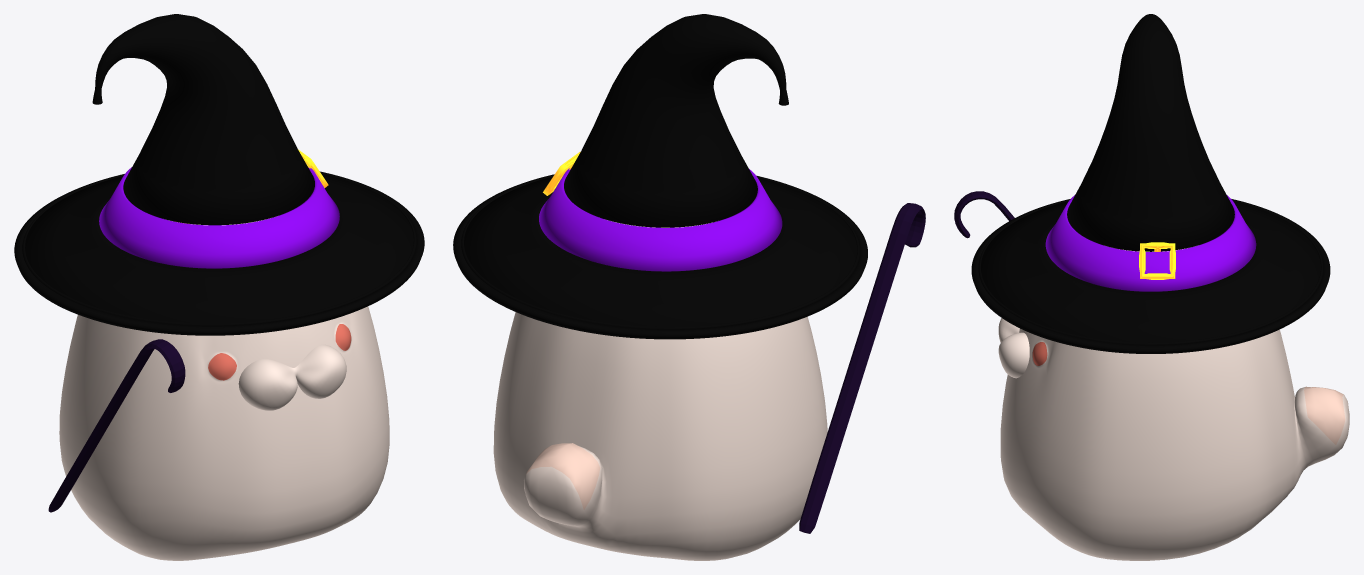
Rendered from rabit_witch.glb.
3 views of the same model, side by side, from view 1: azimuth 30°, elevation 25°; view 2: azimuth 150°, elevation 25°; view 3: azimuth 270°, elevation 25° (orthographic). The views are drawn at different scales.
Visible parts, largest first — view 1: Circle.001, Cat.002, Cube.001; view 2: Circle.001, Cat.002, Cube.001; view 3: Circle.001, Cat.002, Cube.001.
Boxes of the visible parts, left/top/right/bottom form: Circle.001: left=14, top=14, right=424, bottom=335; Cat.002: left=59, top=218, right=389, bottom=560; Cube.001: left=48, top=339, right=185, bottom=512; Circle.001: left=453, top=14, right=867, bottom=339; Cat.002: left=493, top=220, right=827, bottom=560; Cube.001: left=799, top=203, right=925, bottom=533; Circle.001: left=971, top=14, right=1330, bottom=353; Cat.002: left=998, top=247, right=1349, bottom=560; Cube.001: left=954, top=191, right=1014, bottom=238.
Bounding box in the file's own units: 3.16 × 4.32 × 3.31.
